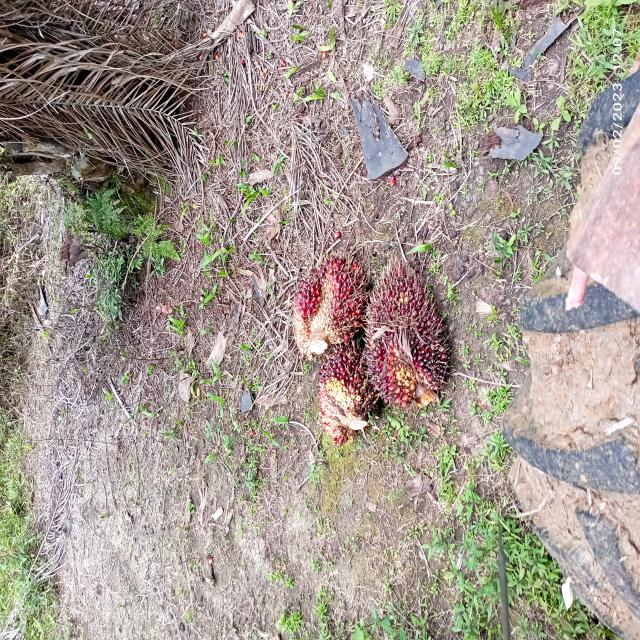fraksi 1: (351, 253, 472, 420), (295, 340, 380, 453)
fraksi 3: (282, 240, 371, 358)
